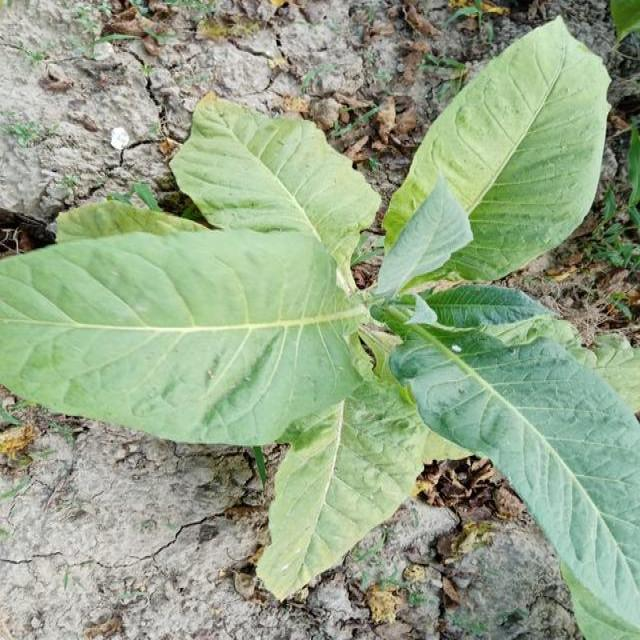crop: (5, 37, 640, 622)
